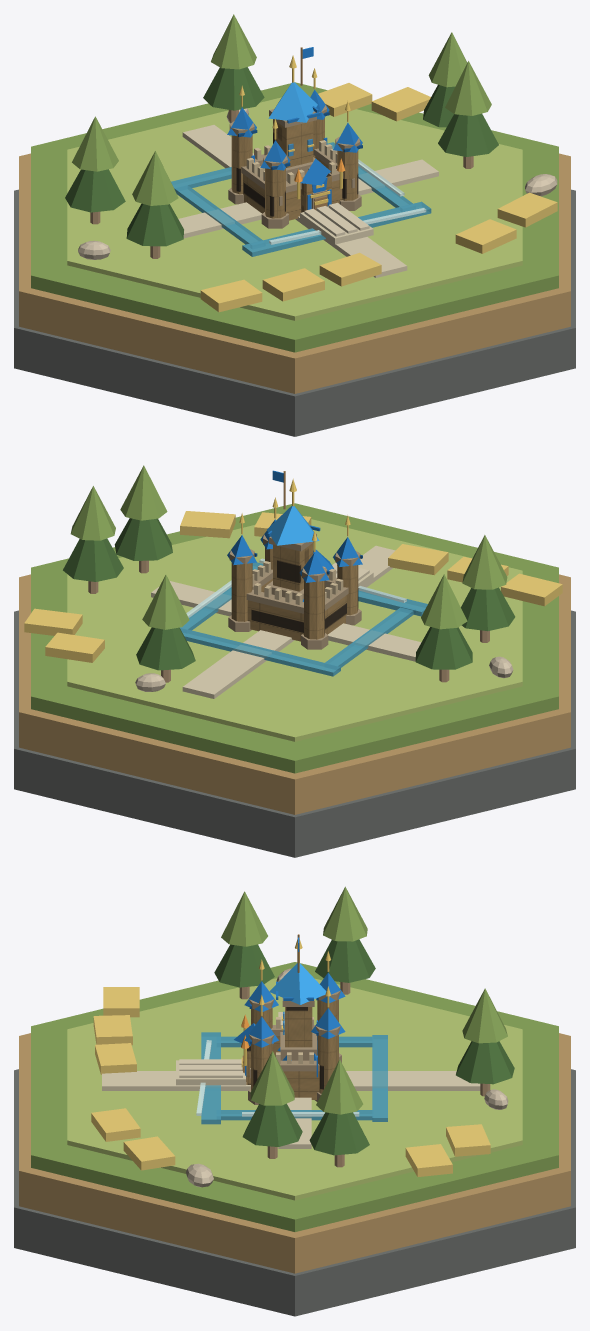
Rendered from buildable-city-center-lod0.glb.
3 renders of one model, top to bottom at view 1: azimuth 30°, elevation 25°; view 2: azimuth 150°, elevation 25°; view 3: azimuth 270°, elevation 25°, orthographic.
Visible parts, largest first — view 1: city_inner_lawn, city_grass_top, city_hex_clay_side, city_hex_bedrock_side, main_city_road_west_east, main_city_road_north_south, city_edge_pine_4_lower_crown, city_edge_pine_1_lower_crown, city_edge_pine_3_lower_crown, city_edge_pine_5_lower_crown, main_city_moat_front, city_edge_pine_3_upper_crown (+25 smaller); view 2: city_inner_lawn, city_grass_top, city_hex_clay_side, city_hex_bedrock_side, main_city_road_north_south, main_city_road_west_east, city_edge_pine_3_lower_crown, city_edge_pine_1_lower_crown, city_edge_pine_5_lower_crown, city_edge_pine_2_lower_crown, main_city_moat_back, city_edge_pine_4_lower_crown (+21 smaller); view 3: city_inner_lawn, city_grass_top, city_hex_clay_side, city_hex_bedrock_side, main_city_road_north_south, city_edge_pine_5_lower_crown, city_edge_pine_1_lower_crown, city_edge_pine_2_lower_crown, city_edge_pine_4_lower_crown, city_edge_pine_3_lower_crown, city_edge_pine_3_upper_crown, city_edge_pine_1_upper_crown (+21 smaller).
Boxes of the visible parts, x1,y1,x2,y2 form: city_inner_lawn: (67, 97, 522, 320); city_grass_top: (31, 82, 558, 352); city_hex_clay_side: (19, 153, 570, 393); city_hex_bedrock_side: (14, 189, 575, 436); main_city_road_west_east: (178, 159, 438, 238); main_city_road_north_south: (182, 125, 407, 277); city_edge_pine_4_lower_crown: (126, 203, 183, 246); city_edge_pine_1_lower_crown: (438, 113, 498, 156); city_edge_pine_3_lower_crown: (65, 169, 125, 212); city_edge_pine_5_lower_crown: (203, 67, 264, 110); main_city_moat_front: (242, 201, 431, 256); city_edge_pine_3_upper_crown: (72, 116, 118, 171); city_inner_lawn: (67, 519, 522, 741); city_grass_top: (31, 503, 558, 773); city_hex_clay_side: (19, 574, 570, 814); city_hex_bedrock_side: (14, 610, 575, 857); main_city_road_north_south: (182, 545, 395, 698); main_city_road_west_east: (151, 581, 421, 661); city_edge_pine_3_lower_crown: (415, 627, 472, 669); city_edge_pine_1_lower_crown: (114, 518, 172, 560); city_edge_pine_5_lower_crown: (136, 627, 195, 670); city_edge_pine_2_lower_crown: (63, 538, 123, 581); main_city_moat_back: (180, 628, 340, 676); city_edge_pine_4_lower_crown: (461, 587, 515, 631); city_inner_lawn: (67, 978, 522, 1200); city_grass_top: (31, 962, 558, 1231); city_hex_clay_side: (19, 1033, 570, 1273); city_hex_bedrock_side: (14, 1069, 575, 1316); main_city_road_north_south: (102, 1071, 480, 1090); city_edge_pine_5_lower_crown: (456, 1041, 514, 1084); city_edge_pine_1_lower_crown: (242, 1103, 302, 1146); city_edge_pine_2_lower_crown: (309, 1112, 369, 1155); city_edge_pine_4_lower_crown: (214, 944, 274, 987); city_edge_pine_3_lower_crown: (315, 939, 375, 982); city_edge_pine_3_upper_crown: (323, 886, 367, 941); city_edge_pine_1_upper_crown: (250, 1051, 294, 1105).
Size of the model in its own units: 2.32 by 0.9816 by 2.01.
23 materials, 1 textured.
